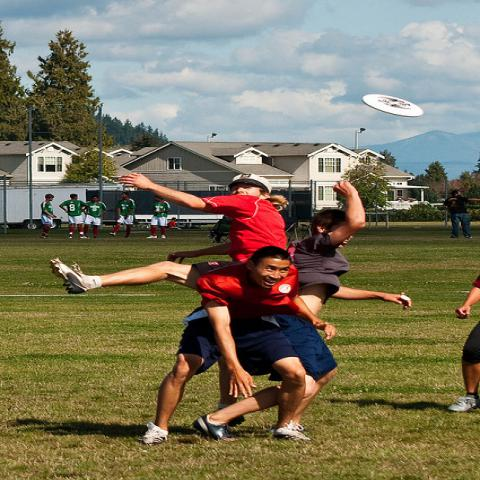truck: (0, 183, 103, 231)
